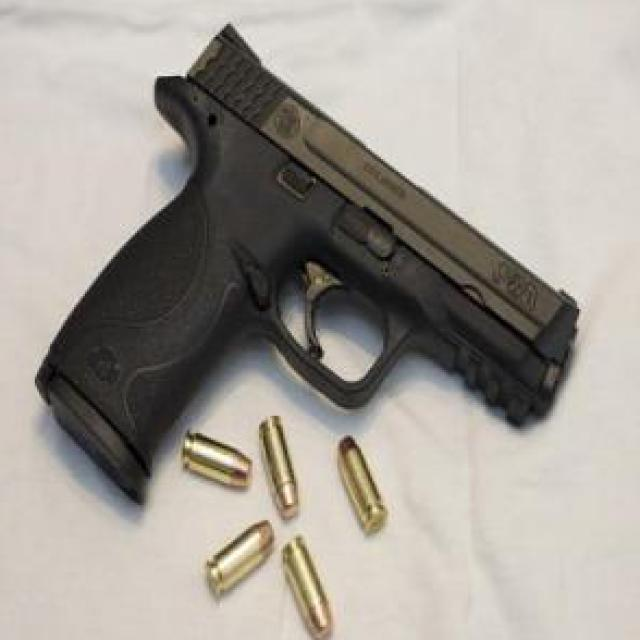pistol: (37, 22, 581, 516)
